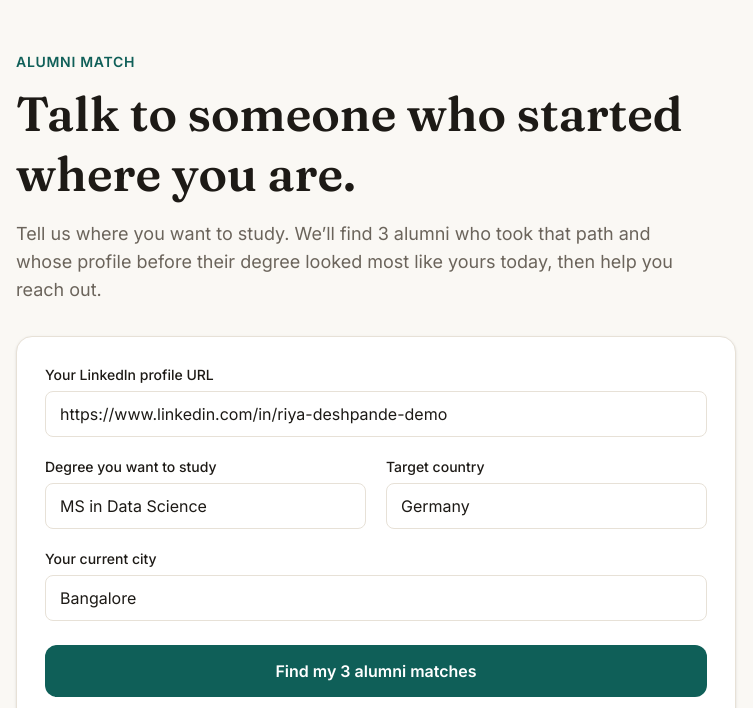
Scenario: daily limit (3 new alumni per day, demo-only, in localStorage) › explains a partial shortfall
The width and height of the screenshot is (753, 708).
Click the button "Find my 3 alumni matches" at (376, 671), box [45,645,707,697]
(page scrolled)
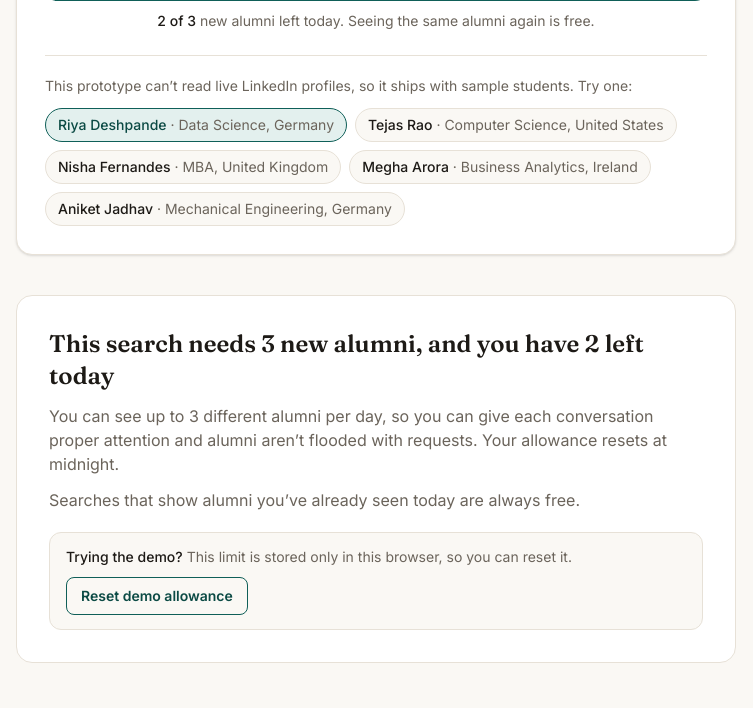
Result: the heading "This search needs 3 new alumni, and you have 2 left today" is shown at [49,328,703,392]
